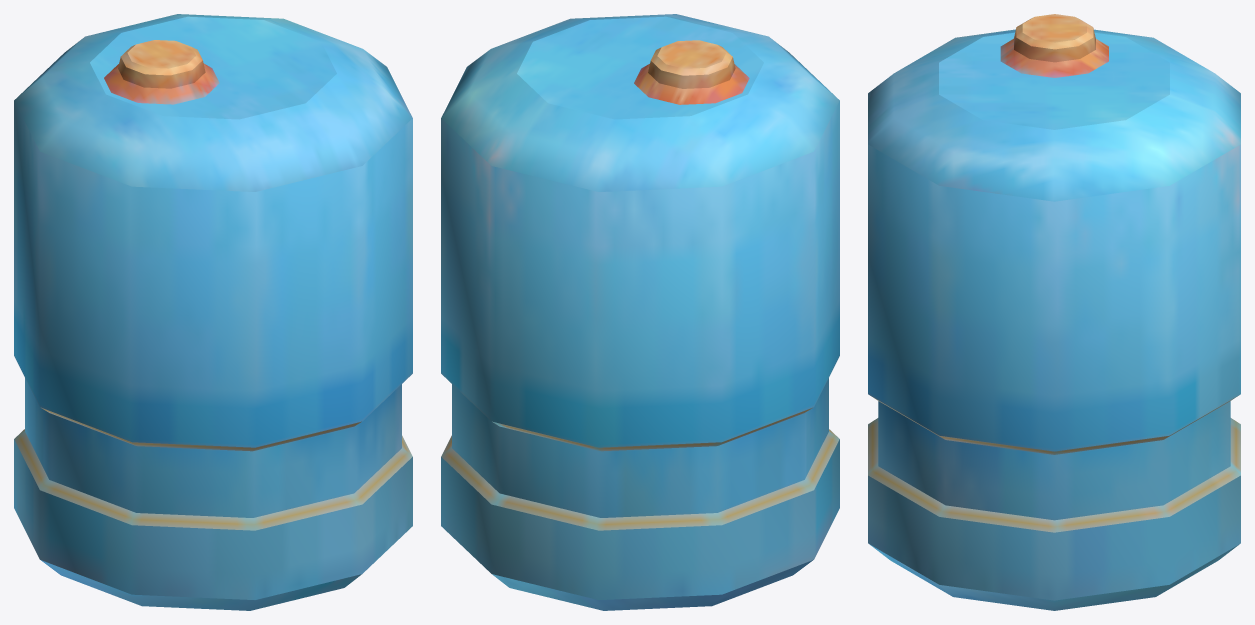
File: eqp_bottle_s03_l0.fbx
3 views of the same model, side by side, from view 1: azimuth 30°, elevation 25°; view 2: azimuth 150°, elevation 25°; view 3: azimuth 270°, elevation 25° (orthographic). The views are drawn at different scales.
Parts seen in each view (by area): view 1: mesh_node; view 2: mesh_node; view 3: mesh_node.
Boxes of the visible parts, <box> form: mesh_node: <box>14,14,412,610</box>; mesh_node: <box>441,14,839,610</box>; mesh_node: <box>868,14,1240,610</box>.
Size of the model in its own units: 0.0843 by 0.1151 by 0.0802.
